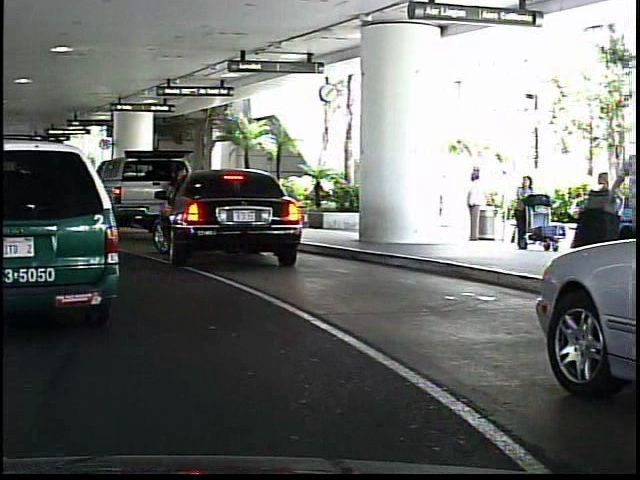person: (505, 172, 536, 258)
